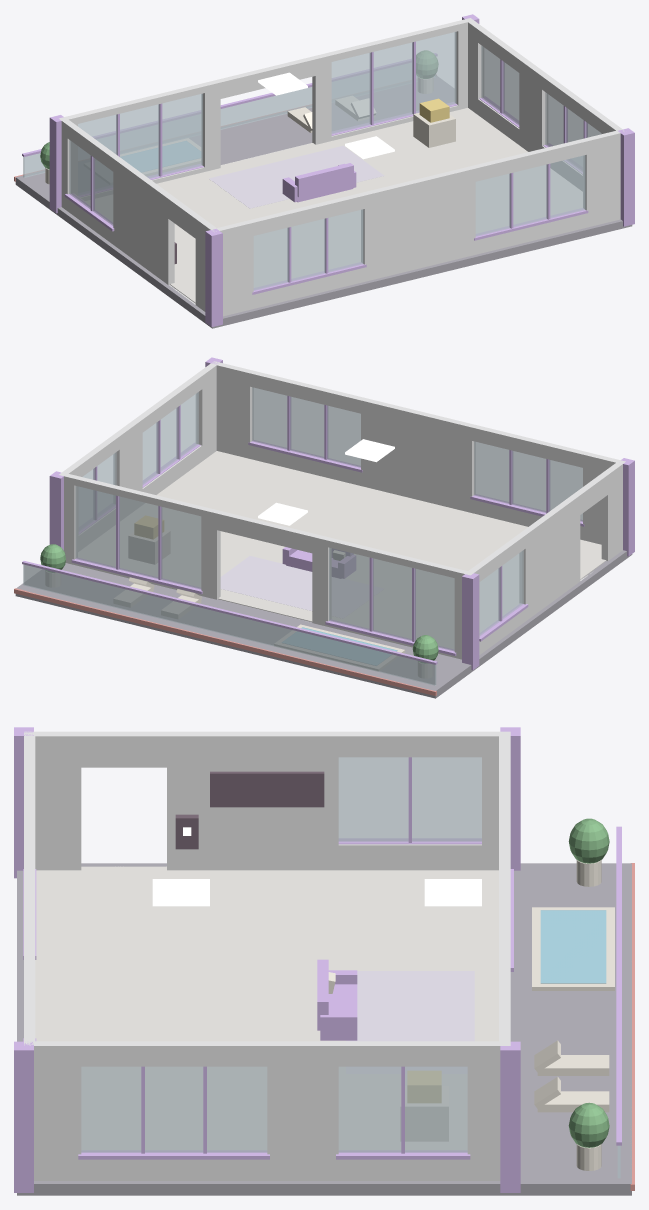
File: Floor05.glb
3 views of the same model, one above another, from view 1: azimuth 30°, elevation 25°; view 2: azimuth 150°, elevation 25°; view 3: azimuth 270°, elevation 25° (orthographic). The views are drawn at different scales.
Visible parts, largest first — view 1: Floor05_11, Floor05_6, Floor05_10, Floor05_7, Floor05_4, Floor05_5, Floor05_8, Floor05_15, Floor05_14, Floor05_3, Floor05_1, Floor05_12; view 2: Floor05_11, Floor05_6, Floor05_10, Floor05_7, Floor05_4, Floor05_5, Floor05_8, Floor05_15, Floor05_9, Floor05_3, Floor05_14, Floor05_1 (+1 smaller); view 3: Floor05_10, Floor05_11, Floor05_6, Floor05_4, Floor05_7, Floor05_15, Floor05_8, Floor05_0, Floor05_3, Floor05_14, Floor05_1, Floor05_12 (+1 smaller).
Boxes of the visible parts, <box> form: Floor05_11: <box>59,18,624,316</box>; Floor05_6: <box>69,32,601,290</box>; Floor05_10: <box>85,108,582,303</box>; Floor05_7: <box>22,14,634,326</box>; Floor05_4: <box>15,76,632,328</box>; Floor05_5: <box>23,63,435,177</box>; Floor05_8: <box>209,145,384,208</box>; Floor05_15: <box>45,77,455,184</box>; Floor05_14: <box>258,72,394,159</box>; Floor05_3: <box>120,141,200,172</box>; Floor05_1: <box>40,50,438,169</box>; Floor05_12: <box>419,98,449,122</box>; Floor05_11: <box>59,361,625,659</box>; Floor05_6: <box>75,387,582,651</box>; Floor05_10: <box>78,451,606,648</box>; Floor05_7: <box>22,357,634,670</box>; Floor05_4: <box>15,550,632,698</box>; Floor05_5: <box>23,564,436,685</box>; Floor05_8: <box>220,556,383,618</box>; Floor05_15: <box>45,530,433,678</box>; Floor05_9: <box>14,588,436,695</box>; Floor05_3: <box>282,627,397,665</box>; Floor05_14: <box>258,439,394,525</box>; Floor05_1: <box>40,544,438,663</box>; Floor05_10: <box>35,866,498,1149</box>; Floor05_11: <box>24,731,510,1180</box>; Floor05_6: <box>81,757,481,1152</box>; Floor05_4: <box>17,863,631,1195</box>; Floor05_7: <box>14,727,621,1192</box>; Floor05_15: <box>328,860,614,1170</box>; Floor05_8: <box>346,971,474,1073</box>; Floor05_0: <box>175,771,324,849</box>; Floor05_3: <box>540,910,606,983</box>; Floor05_14: <box>152,879,481,906</box>; Floor05_1: <box>568,818,609,1147</box>; Floor05_12: <box>407,1071,441,1102</box>.
Bounding box in the file's own units: 53.4 × 11.3 × 43.4.
